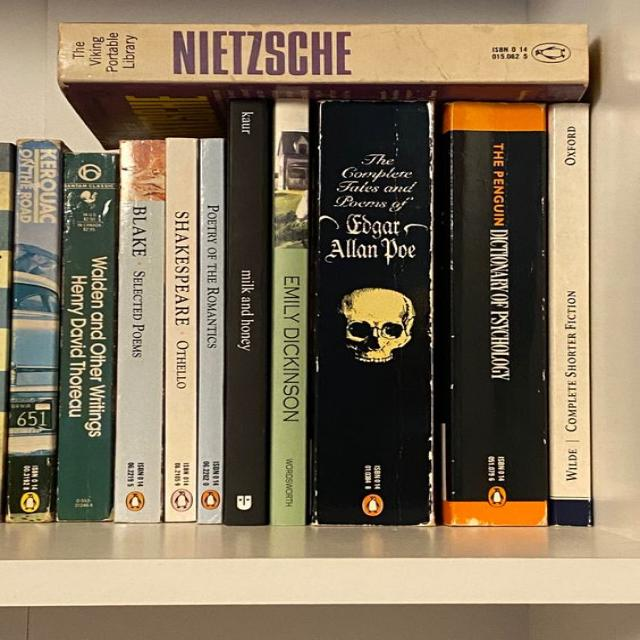book: (313, 99, 434, 527), (446, 102, 548, 525), (60, 24, 588, 82), (55, 152, 114, 521), (7, 140, 60, 523), (113, 141, 165, 523), (223, 100, 265, 526), (553, 103, 593, 526), (270, 99, 308, 526), (168, 140, 195, 523), (199, 138, 222, 523)
